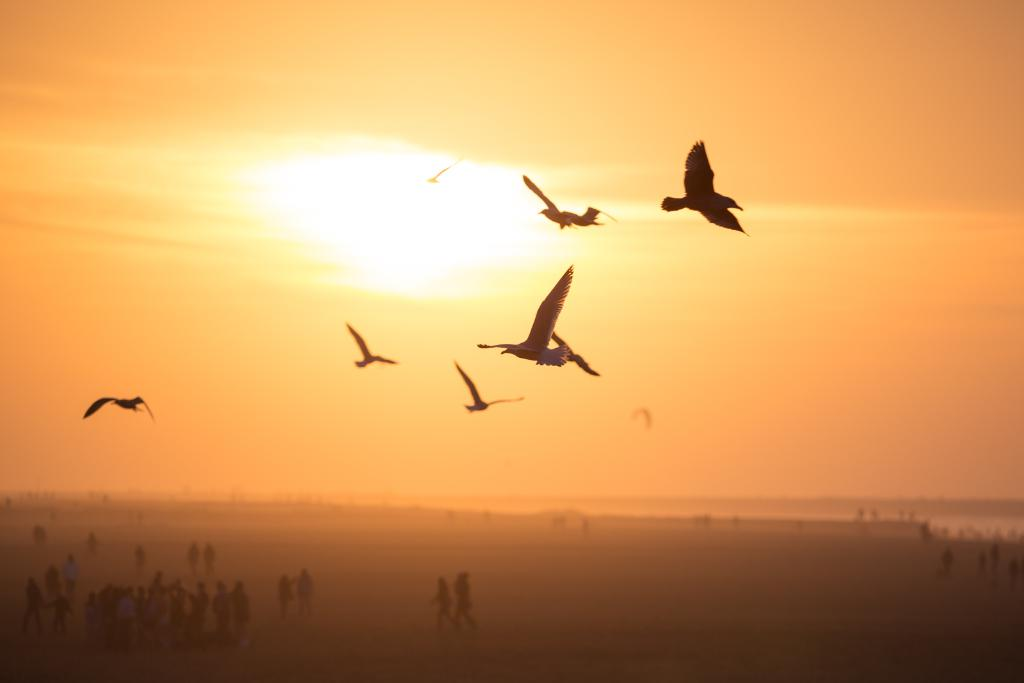Bird: (83, 139, 751, 428)
